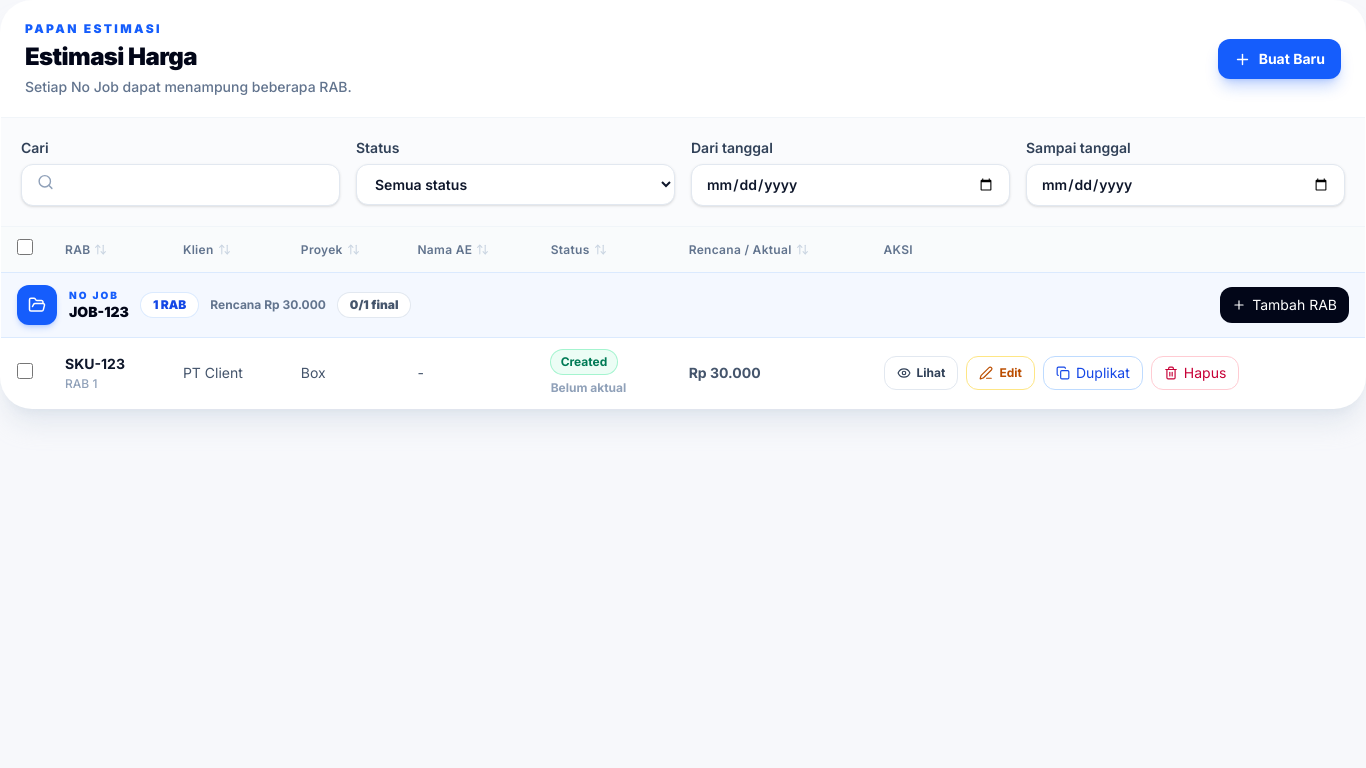
Test case: PriceEstimationContainer routing › starts a new RAB with No Job and client inherited from its group
Click the button "Tambah RAB".
click(1285, 305)  # box [1220,287,1349,323]
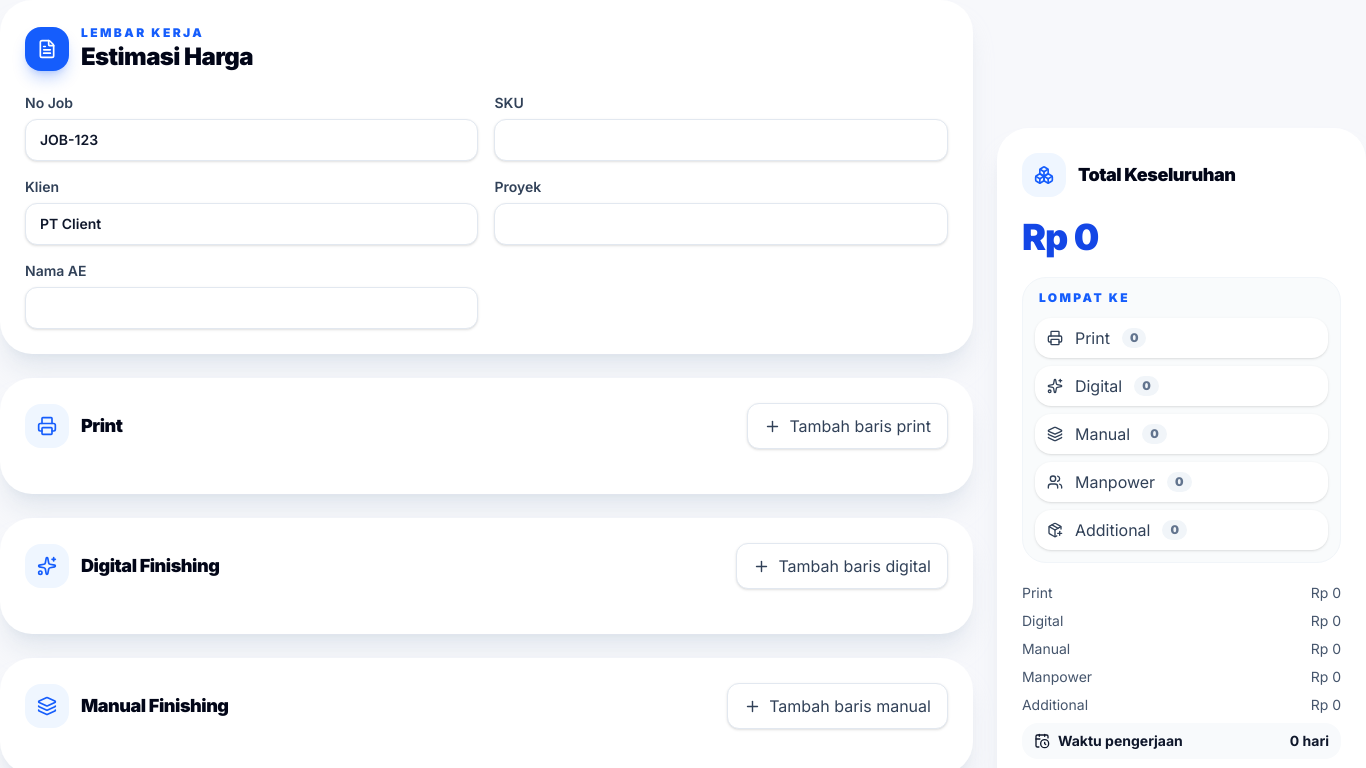
Expected: the field labelled "SKU" is empty, [494,119,948,161]
Expected: the field labelled "No Job" holds "JOB-123", [25,119,478,161]
Expected: the field labelled "Klien" holds "PT Client", [25,203,478,245]
